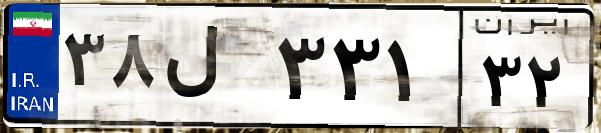1: (385, 28, 445, 110)
2: (525, 38, 570, 115)
3: (270, 28, 330, 110), (330, 28, 385, 110), (57, 26, 110, 100), (475, 38, 525, 113)
8: (110, 28, 158, 98)
ل: (158, 20, 270, 120)
